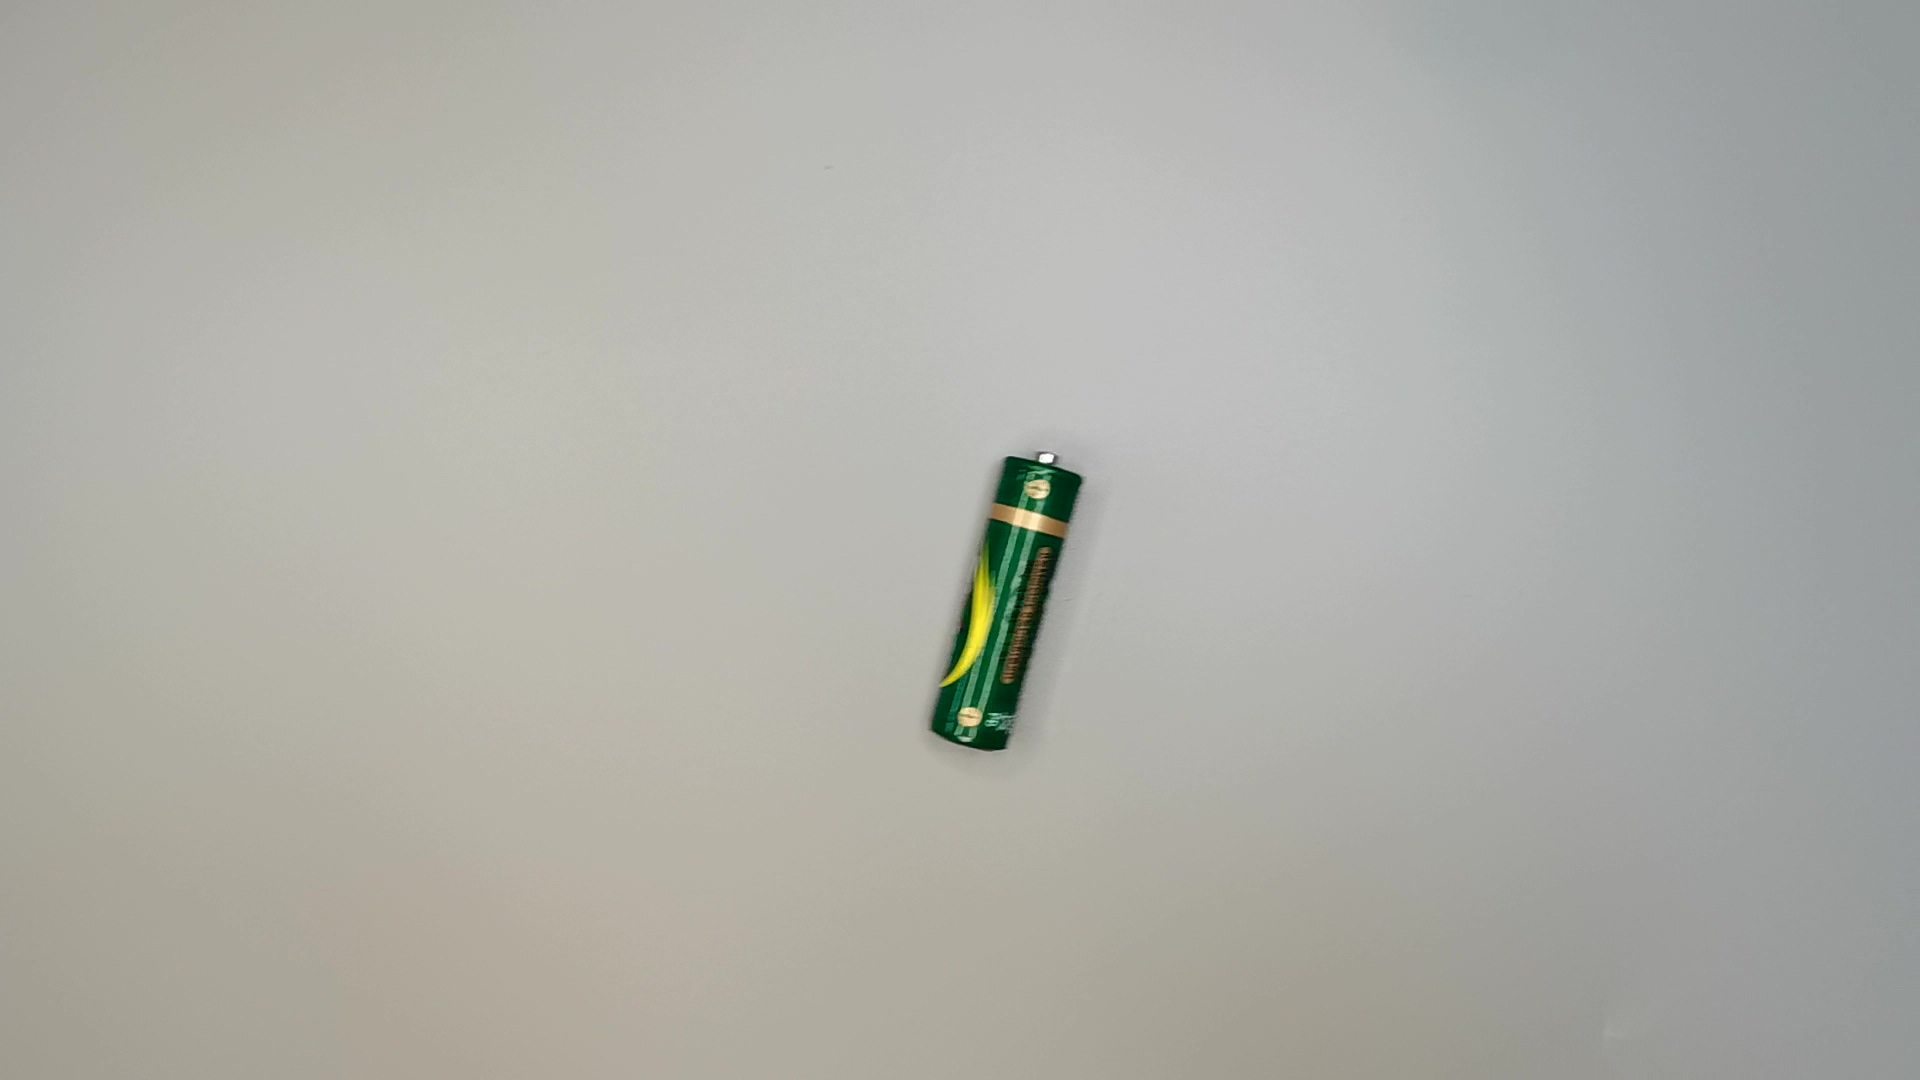battery: (924, 442, 1087, 765)
